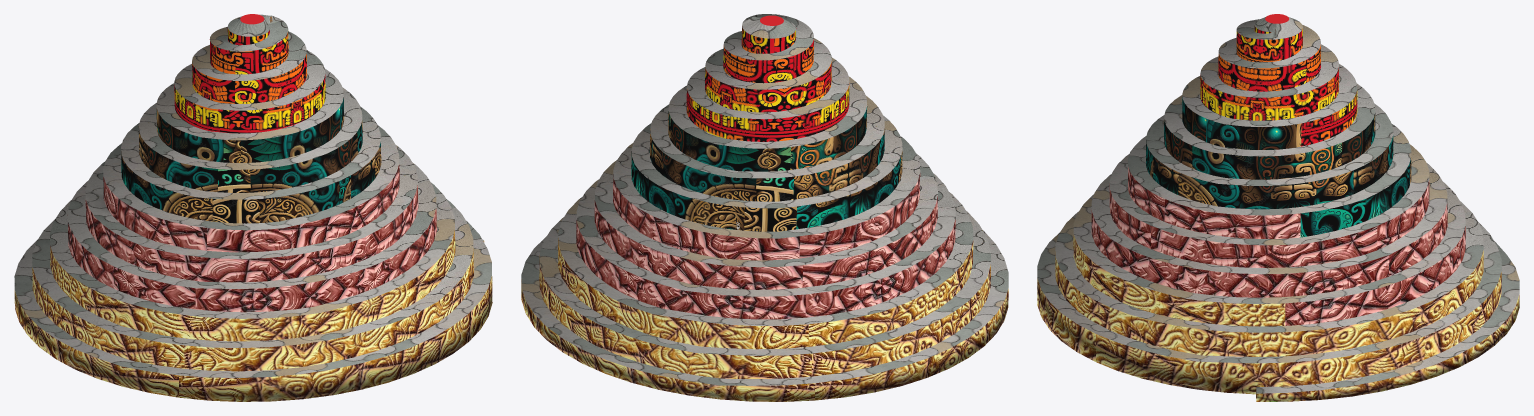
File: tower3.fbx
The picture shows the model from 3 angles, left to right: view 1: azimuth 30°, elevation 25°; view 2: azimuth 150°, elevation 25°; view 3: azimuth 270°, elevation 25°; orthographic projection.
Parts seen in each view (by area): view 1: Circle; view 2: Circle; view 3: Circle.
Part boxes in pixels (box(x1,y1,x2,y2)): Circle: box(14, 14, 492, 401); Circle: box(521, 14, 1008, 401); Circle: box(1037, 14, 1519, 401).
Bounding box in the file's own units: 20332 × 12910 × 19946.
Materials: 8 (6 with a texture image).
